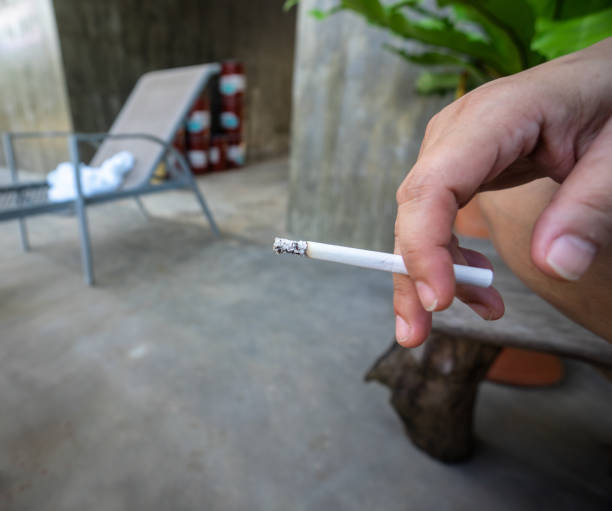cigarette: (273, 237, 494, 287)
